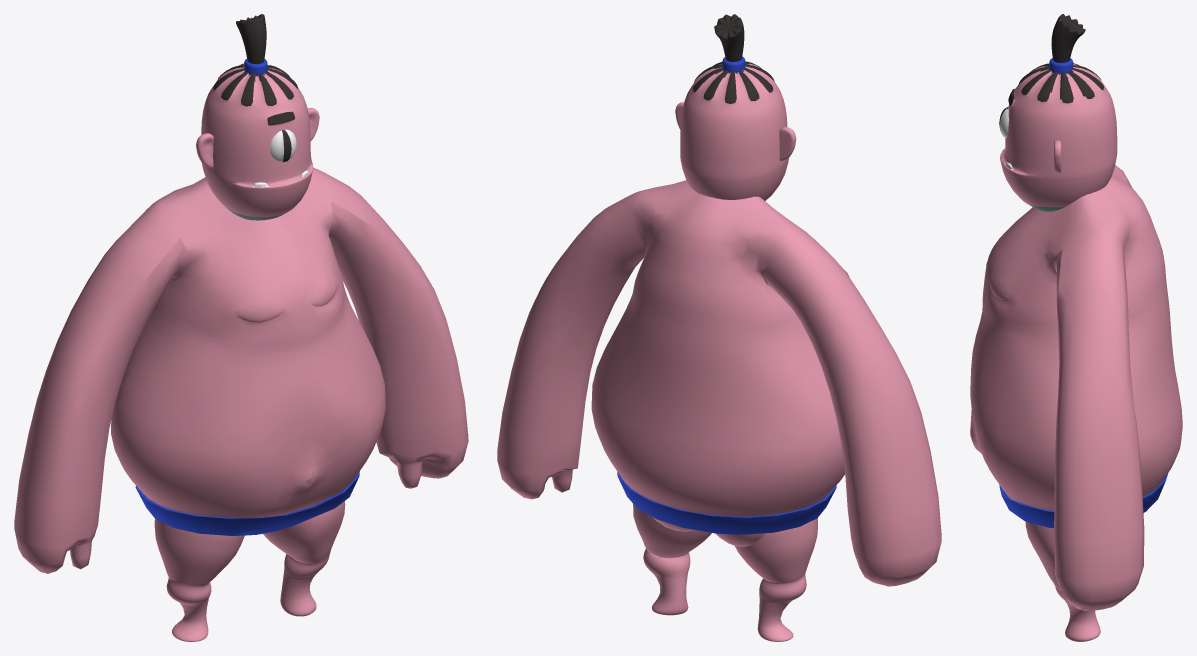
Rendered from giant.fbx.
3 renders of one model, left to right at view 1: azimuth 30°, elevation 25°; view 2: azimuth 150°, elevation 25°; view 3: azimuth 270°, elevation 25°, orthographic. The views are drawn at different scales.
Visible parts, largest first — view 1: polySurface1, pCylinder1, pCylinder5, polySurface2, pCylinder3, pPlane1, pSphere1; view 2: polySurface1, pCylinder1, pCylinder5, polySurface2, pCylinder3, pPlane1; view 3: polySurface1, pCylinder1, pCylinder5, polySurface2, pCylinder3.
Boxes of the visible parts, x1,y1,x2,y2 form: polySurface1: (14,167,468,573); pCylinder1: (201,63,313,220); pCylinder5: (154,501,345,641); polySurface2: (135,471,359,535); pCylinder3: (236,14,266,63); pPlane1: (196,108,319,168); pSphere1: (270,129,296,162); polySurface1: (497,180,941,586); pCylinder1: (680,61,789,200); pCylinder5: (633,504,817,641); polySurface2: (617,472,836,534); pCylinder3: (714,14,744,61); pPlane1: (675,102,796,160); polySurface1: (970,165,1182,610); pCylinder1: (1000,63,1117,211); pCylinder5: (1025,522,1100,641); polySurface2: (999,473,1168,528); pCylinder3: (1051,14,1085,62).
Bounding box in the file's own units: 5.38 × 7.17 × 2.32.
